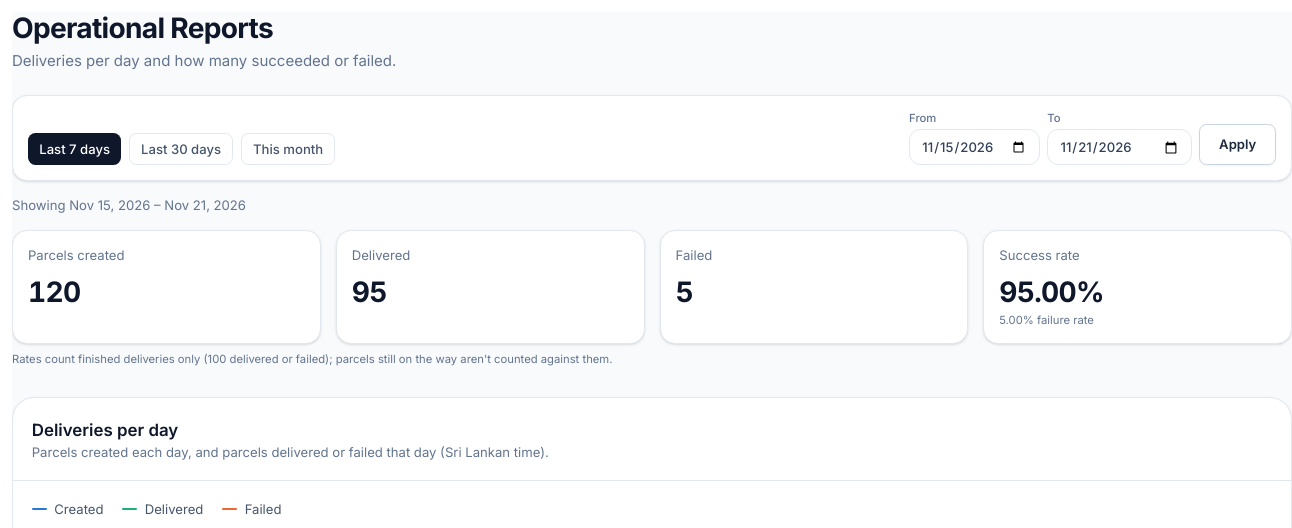
it: a custom range is applied, and an invalid one is explained without a request
Expected: the text "95.00%" is shown, [999,275,1104,309]
In the date field labelled "From": (974, 147) [909,129,1040,165], type "2026-11-10"
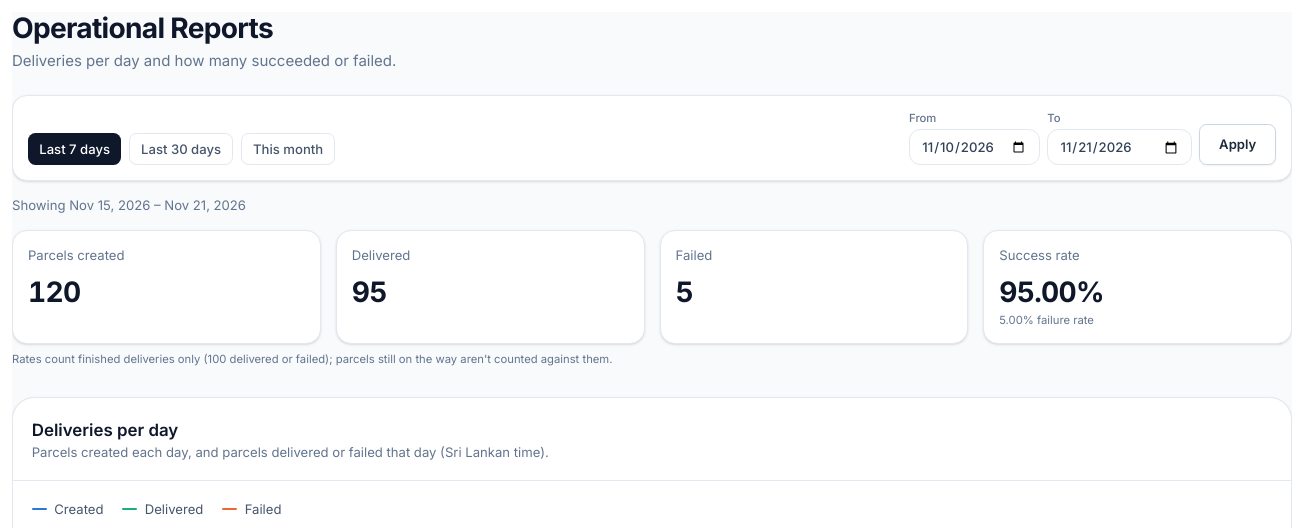
In the date field labelled "To": (1120, 147) [1047,129,1192,165], type "2026-11-01"
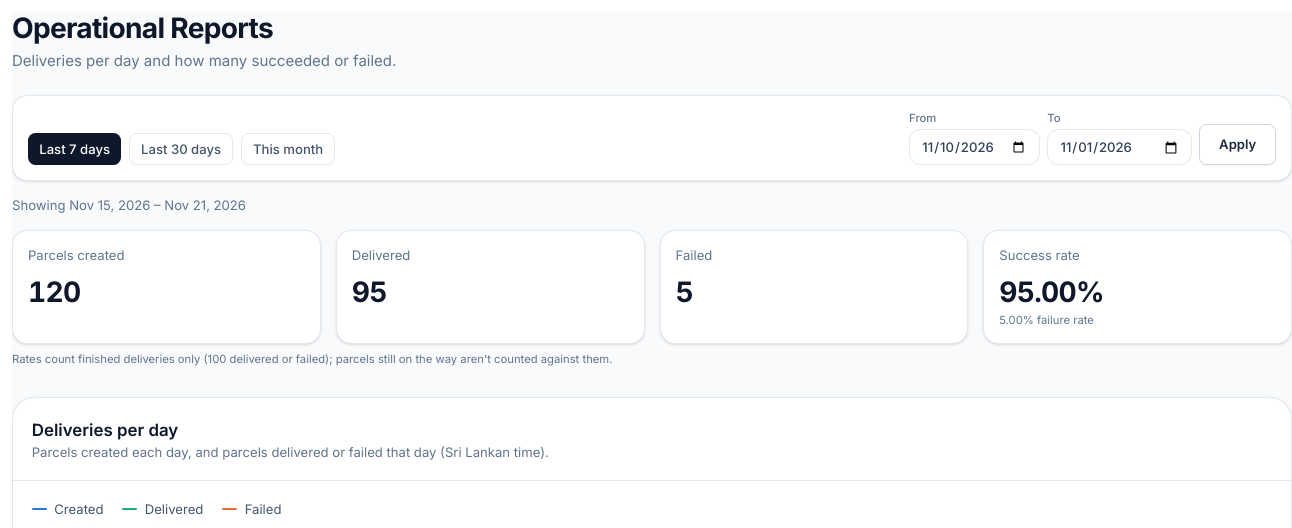
Click the button "Apply": (1238, 144) [1199,124,1276,165]
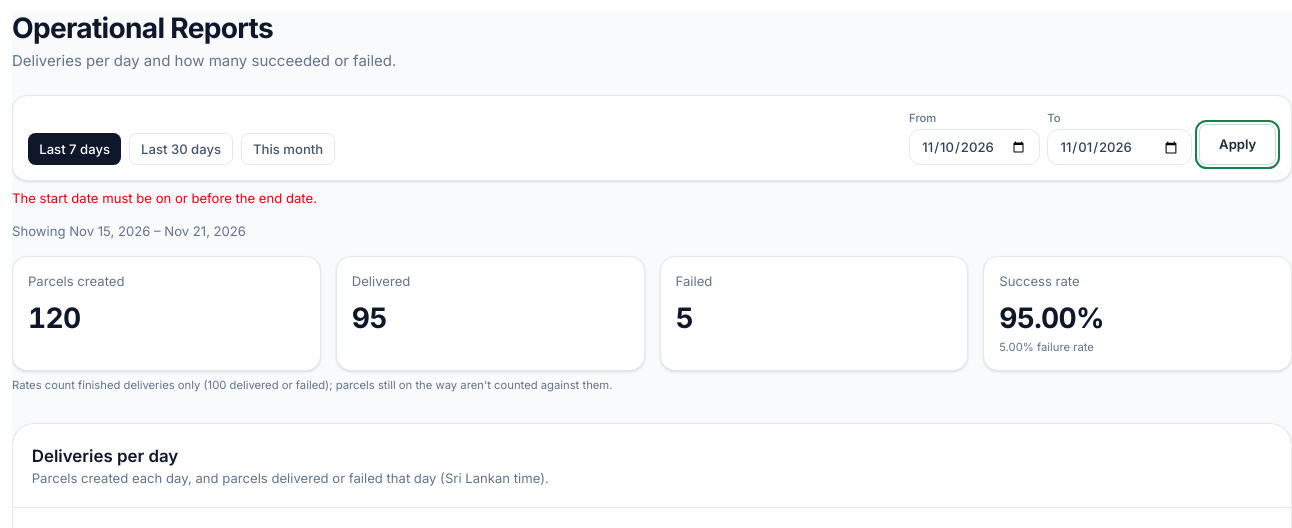
Expected: the message shows "on or before", [12,190,317,206]
In the date field labelled "From": (974, 147) [909,129,1040,165], type "2026-11-01"
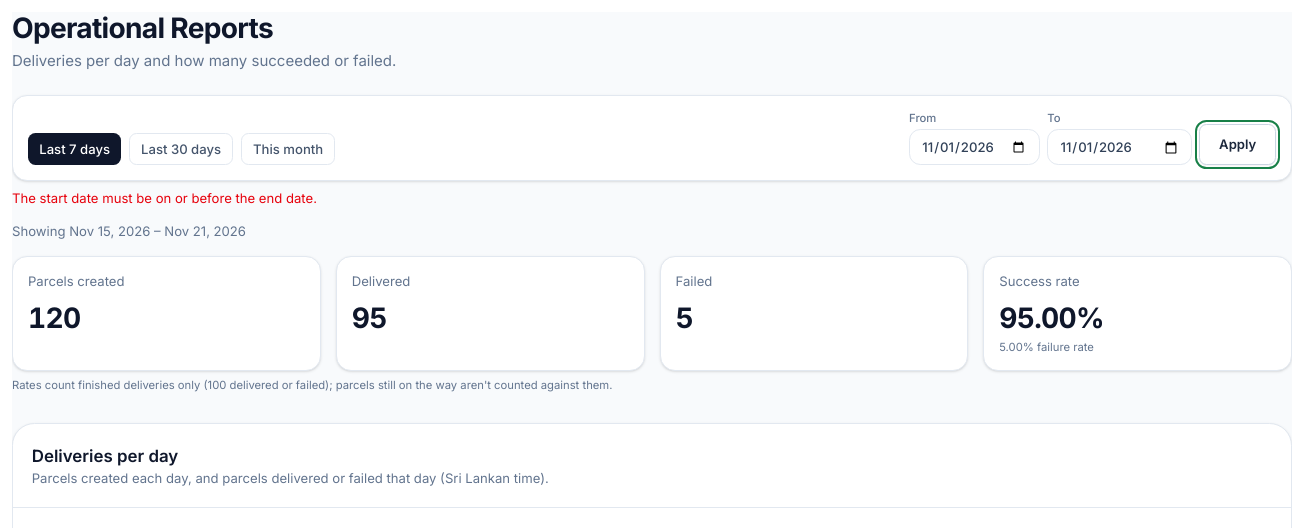
In the date field labelled "To": (1120, 147) [1047,129,1192,165], type "2026-11-10"
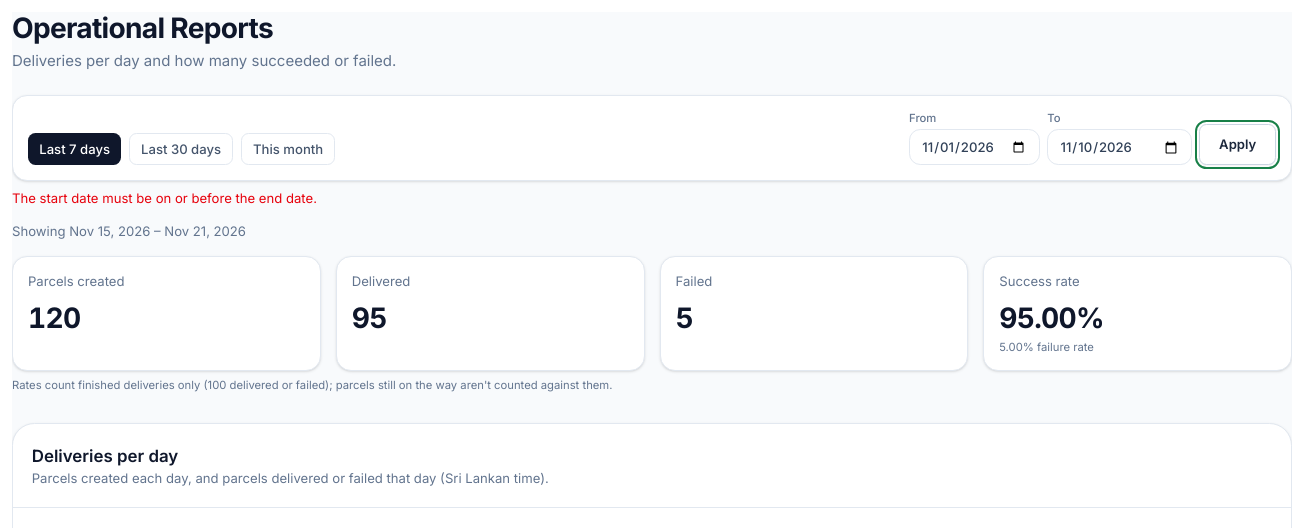
Click the button "Apply": (1238, 144) [1199,124,1276,165]
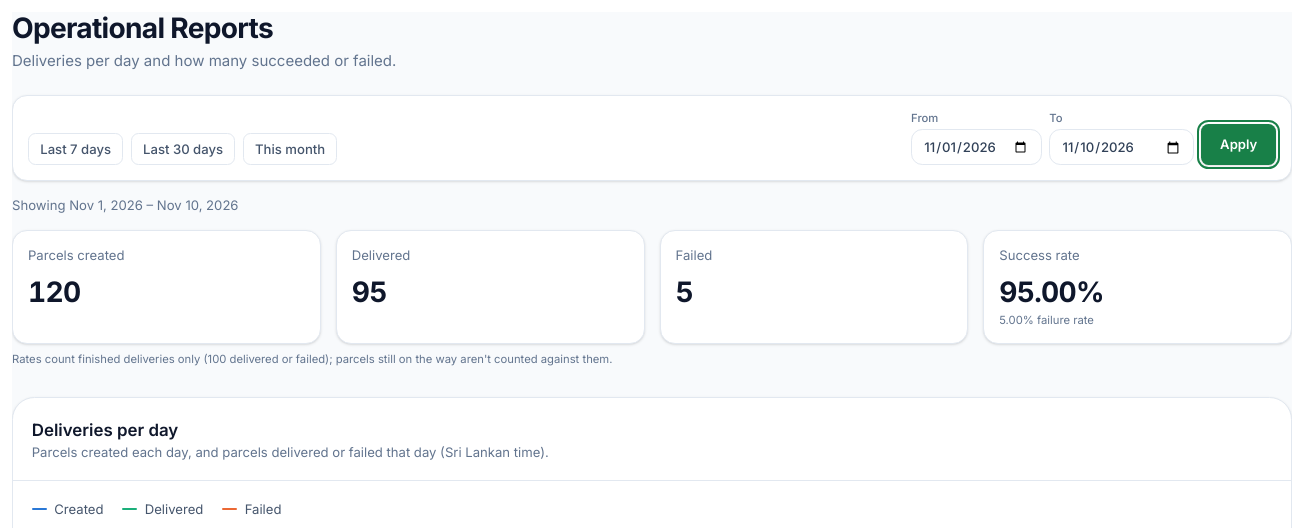
Expected: the message "The start date must be on or before the end date." is gone
